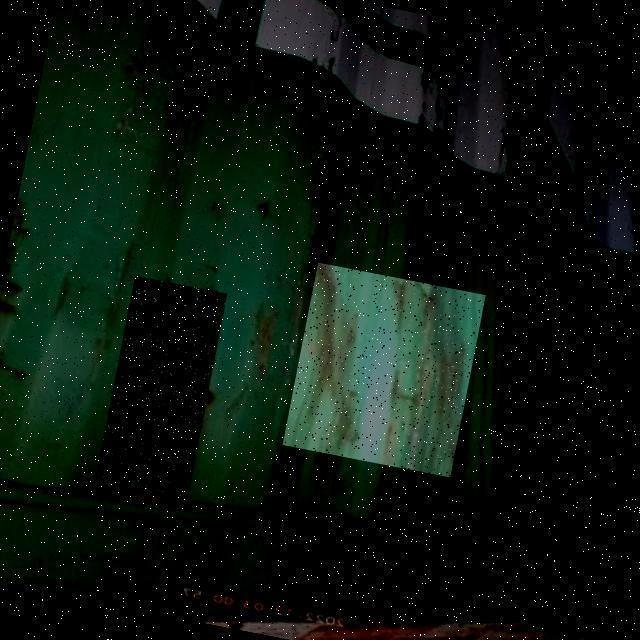rust: (284, 264, 487, 479), (97, 277, 229, 498)
